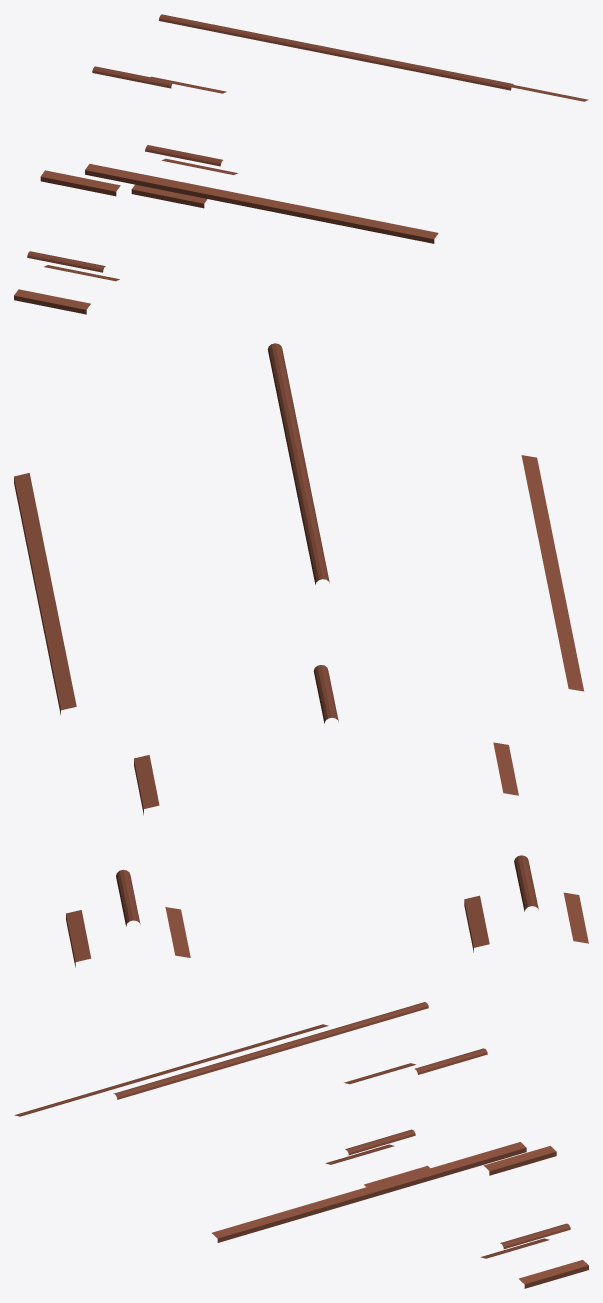
The picture shows the model from 3 angles, top to bottom: view 1: azimuth 30°, elevation 25°; view 2: azimuth 150°, elevation 25°; view 3: azimuth 270°, elevation 25°; orthographic projection. The views are drawn at different scales.
Visible parts, largest first — view 1: detail; view 2: detail; view 3: detail.
Part boxes in pixels (x1,y1,x2,y2): detail: (14, 14, 588, 314); detail: (14, 343, 588, 967); detail: (14, 1002, 588, 1288).
Size of the model in its own units: 16.52 by 7.61 by 17.29.
